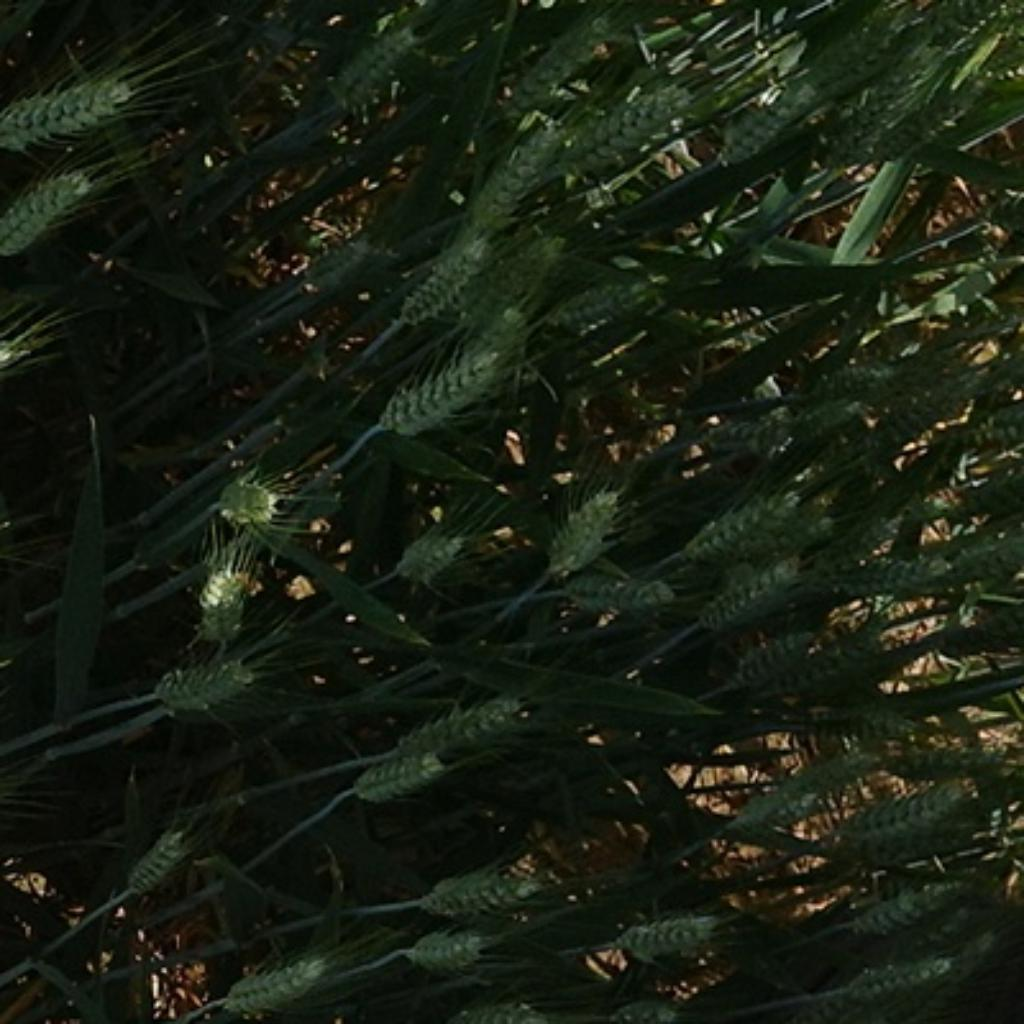0-0: (527, 64, 706, 194), (368, 320, 547, 448), (709, 611, 916, 706), (307, 5, 437, 130), (453, 120, 570, 248), (826, 778, 983, 862), (512, 17, 619, 140), (785, 12, 924, 102), (847, 51, 934, 194), (729, 755, 872, 842), (0, 61, 140, 148), (680, 483, 826, 565), (396, 220, 512, 317), (0, 153, 110, 250), (729, 74, 824, 181), (220, 942, 345, 1021), (537, 478, 632, 576), (417, 857, 558, 921), (875, 378, 983, 458), (386, 698, 519, 762), (547, 266, 670, 335), (693, 558, 814, 627), (186, 547, 272, 640), (842, 875, 960, 942), (616, 901, 729, 970), (117, 814, 204, 903), (558, 558, 680, 619), (153, 650, 266, 714), (391, 517, 481, 586), (847, 954, 954, 1006), (307, 227, 389, 294), (350, 744, 453, 796), (209, 460, 286, 527), (791, 987, 925, 1024), (842, 558, 949, 599), (432, 990, 552, 1024), (880, 744, 1011, 775), (401, 926, 488, 970), (704, 414, 796, 455), (0, 311, 47, 377), (811, 366, 901, 399), (595, 990, 680, 1024)
